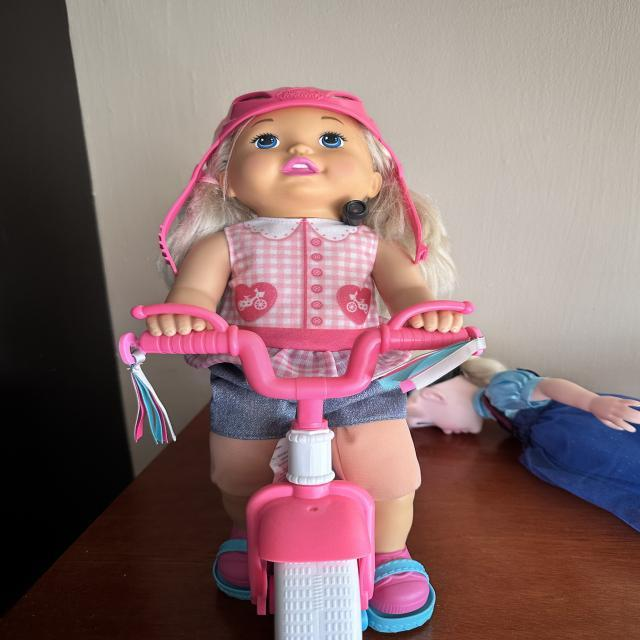hidden camera: (344, 199, 369, 218)
